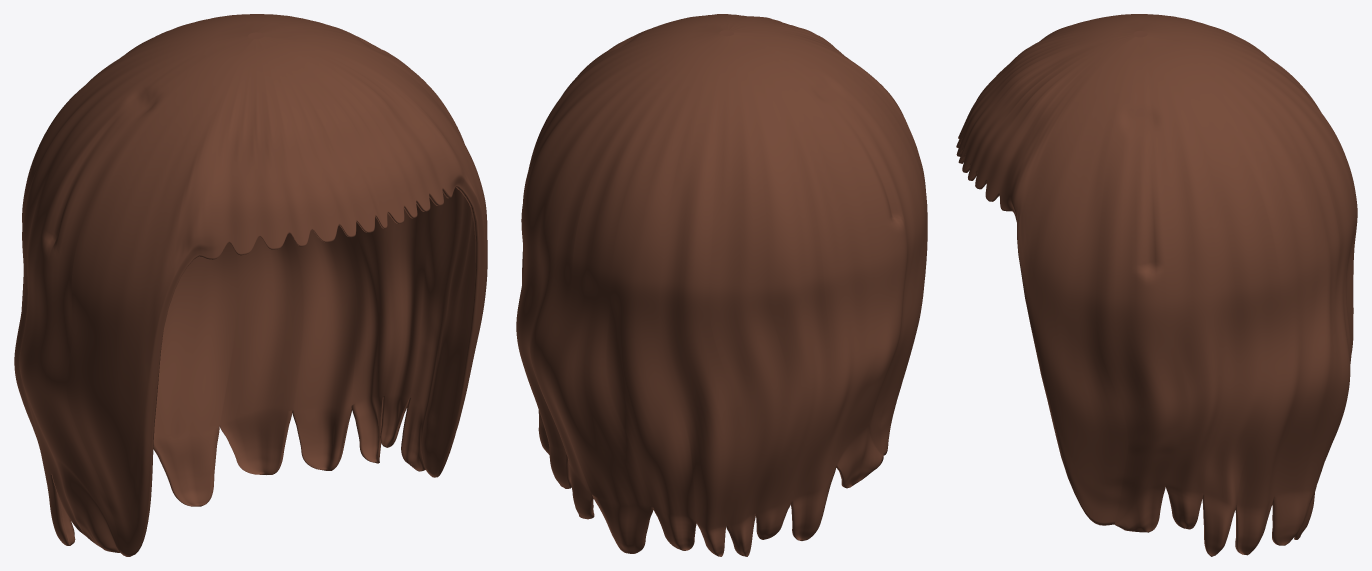
Rendered from long-ears.glb.
3 renders of one model, left to right at view 1: azimuth 30°, elevation 25°; view 2: azimuth 150°, elevation 25°; view 3: azimuth 270°, elevation 25°, orthographic. The views are drawn at different scales.
Parts seen in each view (by area): view 1: Hair / rounded long fringe; view 2: Hair / rounded long fringe; view 3: Hair / rounded long fringe.
Boxes of the visible parts, x1,y1,x2,y2 form: Hair / rounded long fringe: (14,14,487,556); Hair / rounded long fringe: (516,14,927,556); Hair / rounded long fringe: (956,14,1357,556).
Bounding box in the file's own units: 0.8534 × 1.06 × 0.7801.
